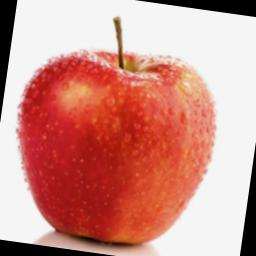Apple Ripe: (0, 6, 248, 256)
